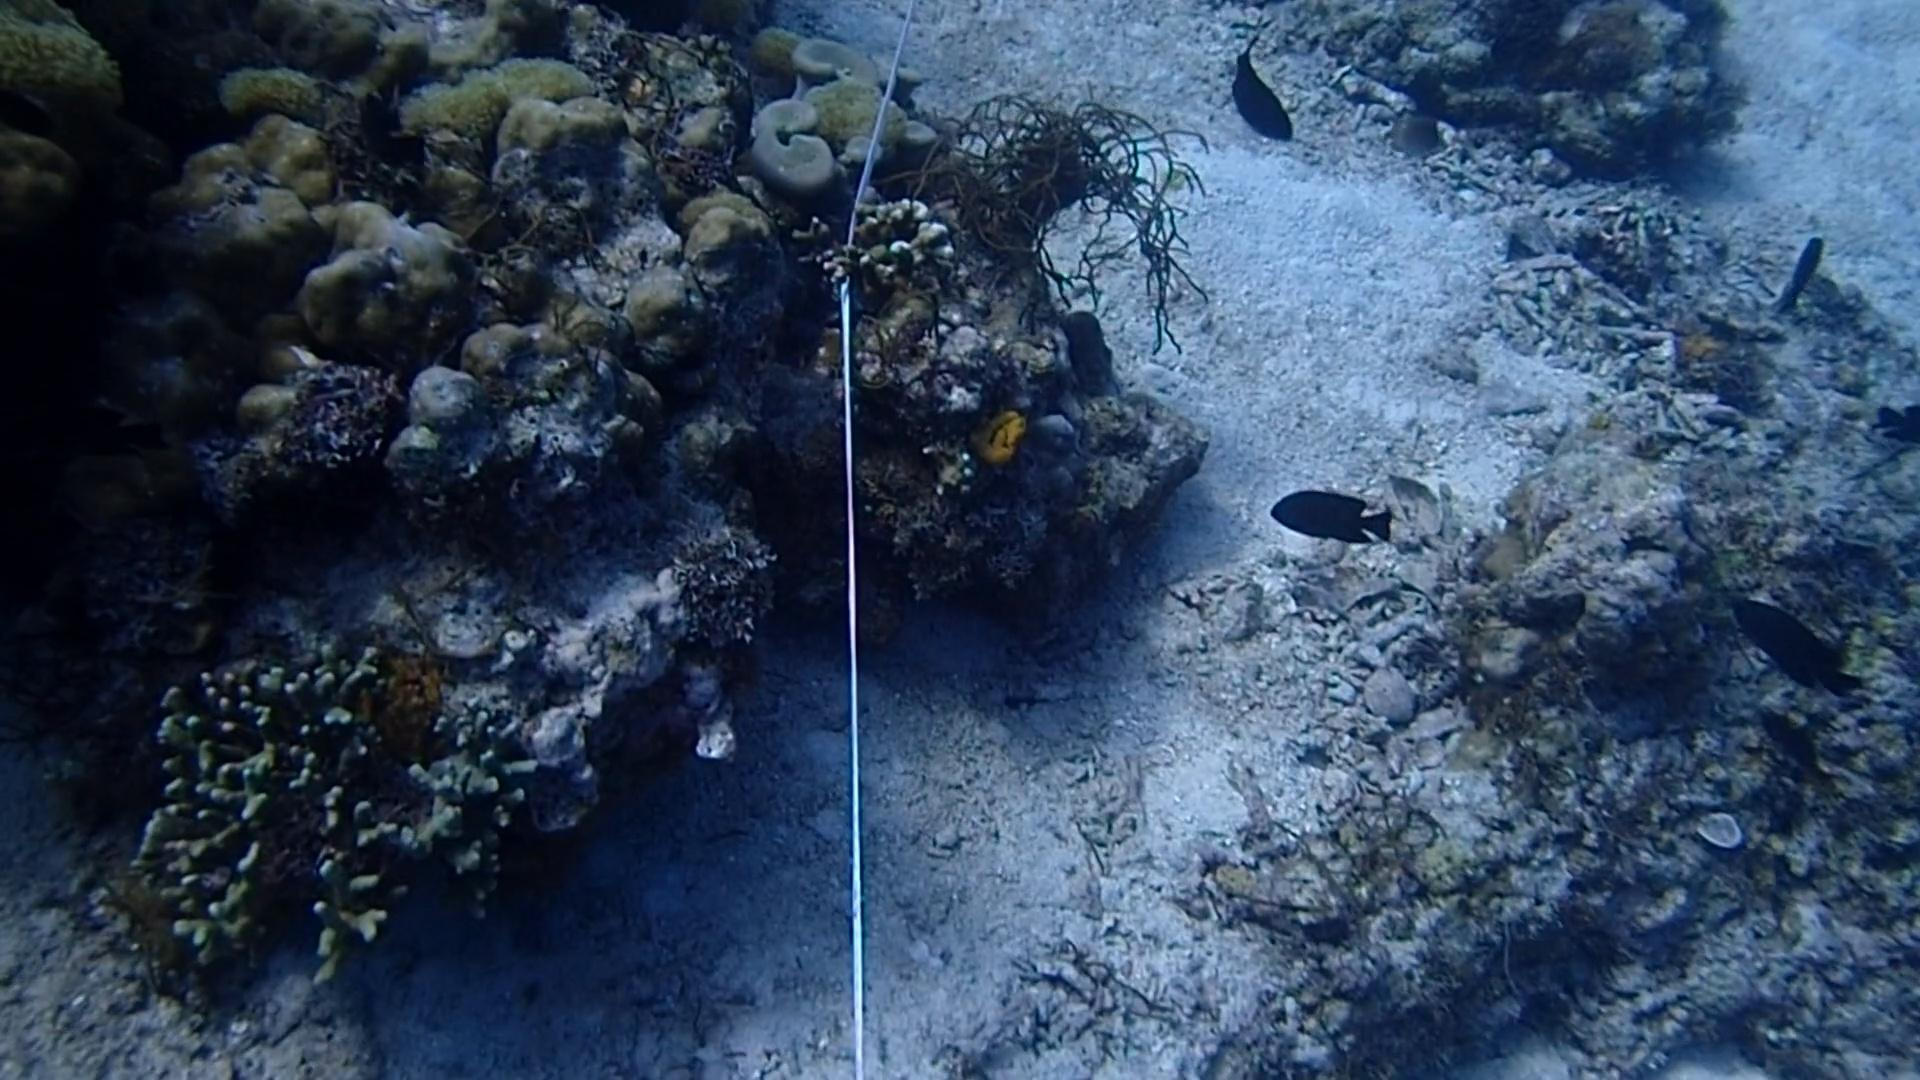Dark Fish: (1714, 580, 1863, 707), (1254, 471, 1415, 560), (1212, 26, 1315, 158), (1745, 696, 1857, 810), (1759, 223, 1838, 318)
Light Fish: (1381, 100, 1455, 167)
